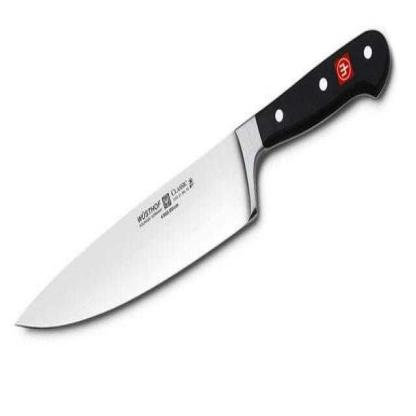Knife: (11, 19, 396, 340)
